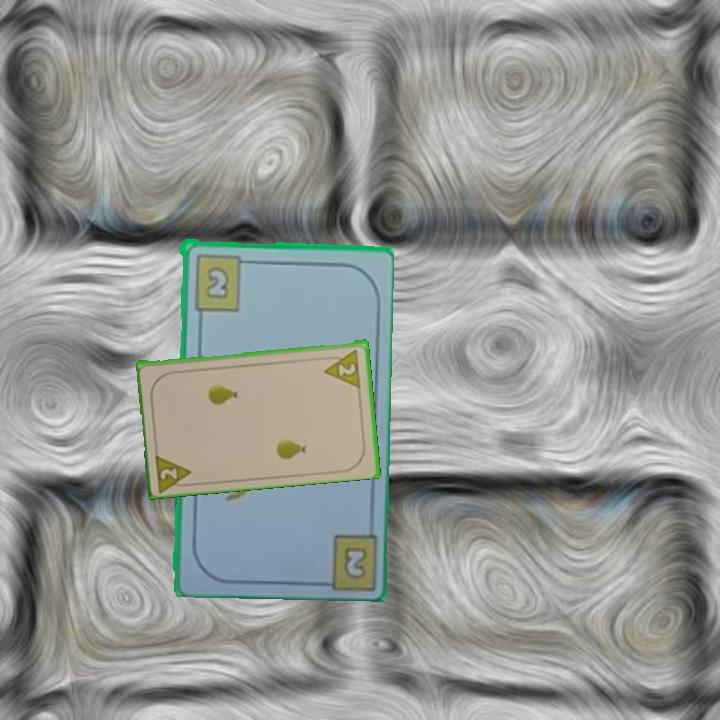2b: (190, 251, 253, 313), (340, 542, 369, 583)
2p: (152, 449, 196, 493), (320, 345, 363, 389)
